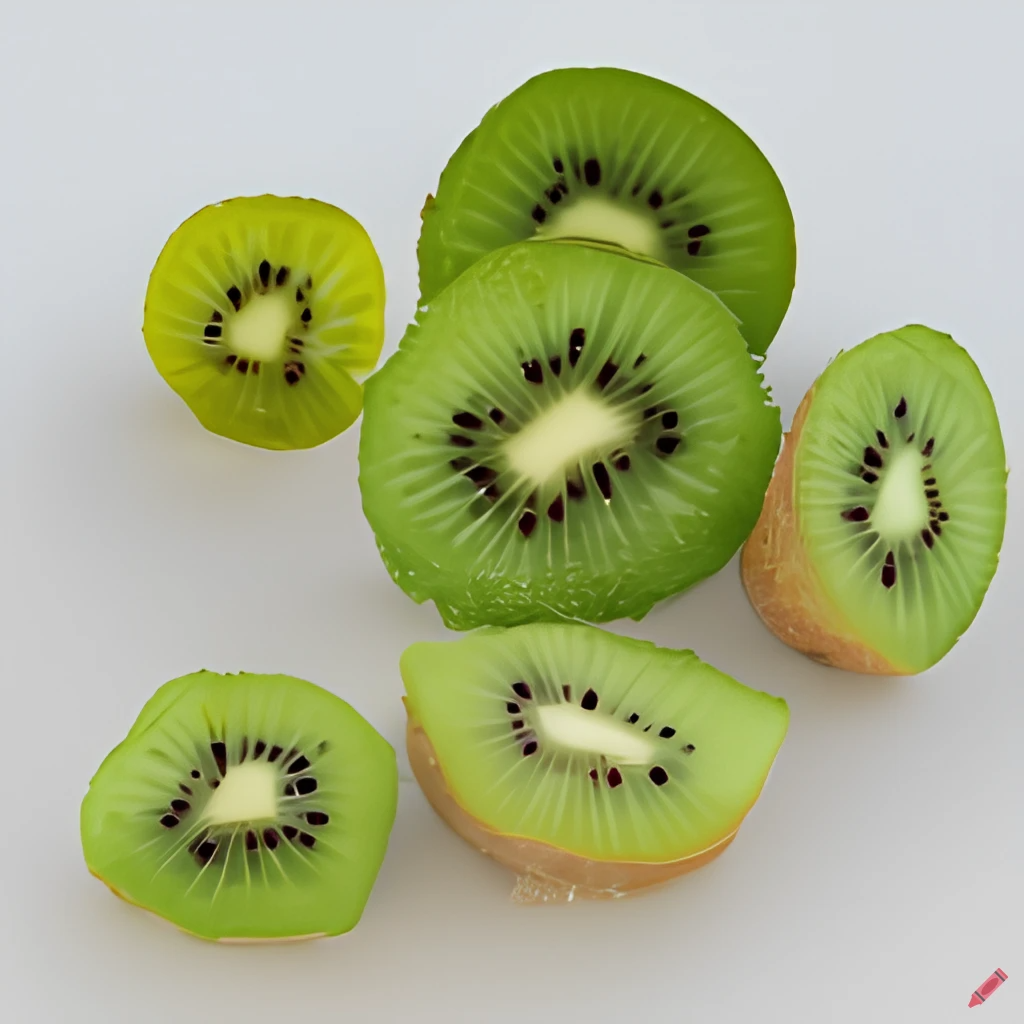Kiwi: (321, 251, 800, 625)
